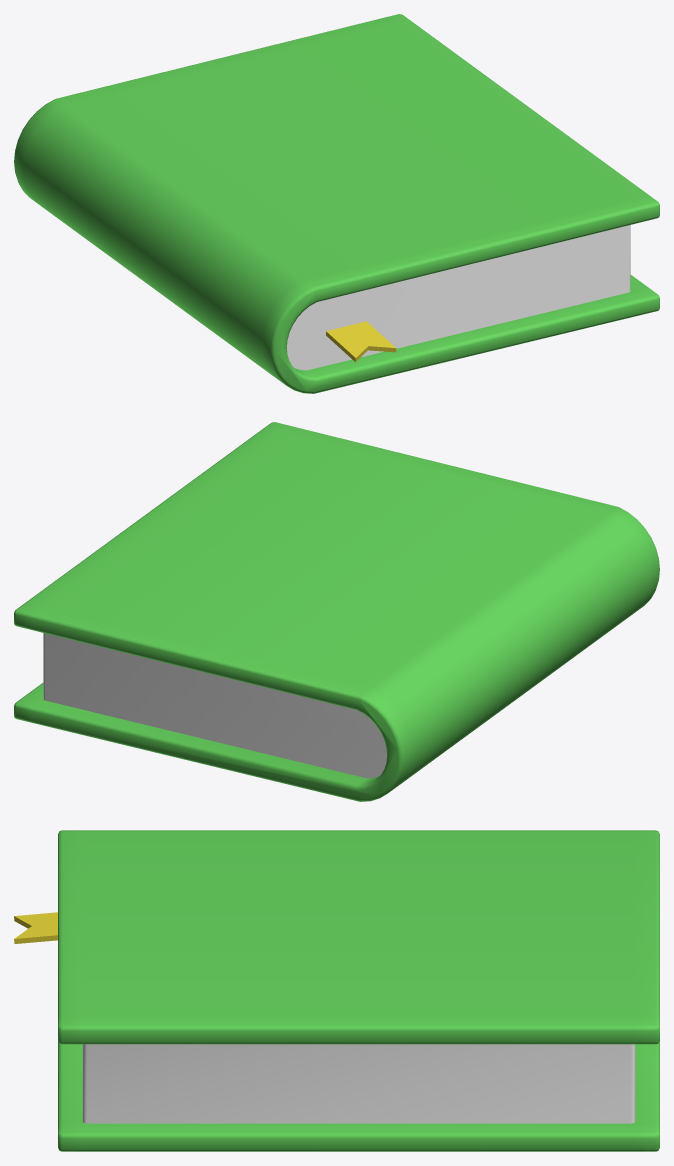
File: Manual.fbx
The picture shows the model from 3 angles, top to bottom: view 1: azimuth 30°, elevation 25°; view 2: azimuth 150°, elevation 25°; view 3: azimuth 270°, elevation 25°; orthographic projection. The views are drawn at different scales.
Parts seen in each view (by area): view 1: Manual; view 2: Manual; view 3: Manual.
Boxes of the visible parts, x1,y1,x2,y2 form: Manual: [14, 14, 659, 393]; Manual: [14, 422, 659, 801]; Manual: [14, 830, 659, 1151].
Bounding box in the file's own units: 744 × 200 × 925.
